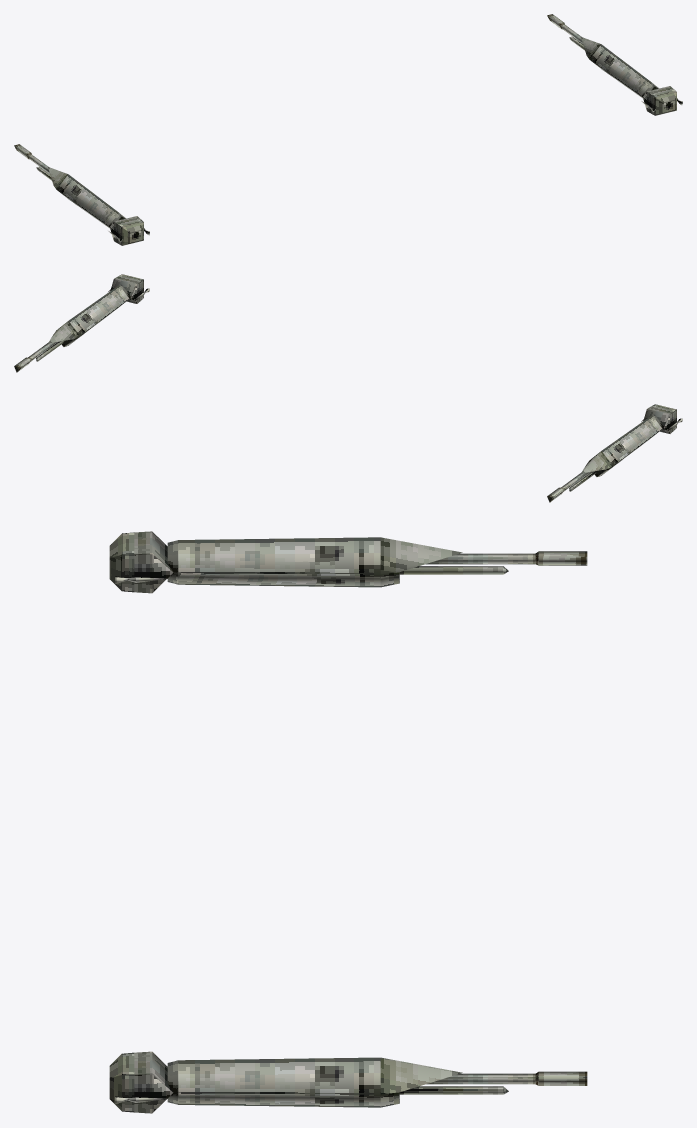
Rendered from z95_weapon_s03_l2.fbx.
3 views of the same model, one above another, from view 1: azimuth 30°, elevation 25°; view 2: azimuth 150°, elevation 25°; view 3: azimuth 270°, elevation 25° (orthographic). The views are drawn at different scales.
Parts seen in each view (by area): view 1: mesh_node; view 2: mesh_node; view 3: mesh_node.
Boxes of the visible parts, x1,y1,x2,y2 form: mesh_node: (14,14,682,245); mesh_node: (14,274,682,502); mesh_node: (109,531,587,1113).
Size of the model in its own units: 15.53 by 0.6605 by 5.7.
1 material, 1 textured.
